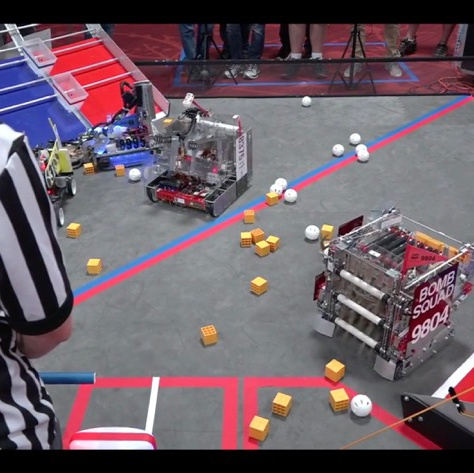robot: (310, 203, 474, 382), (140, 92, 256, 218), (68, 78, 170, 174), (24, 111, 80, 233)
